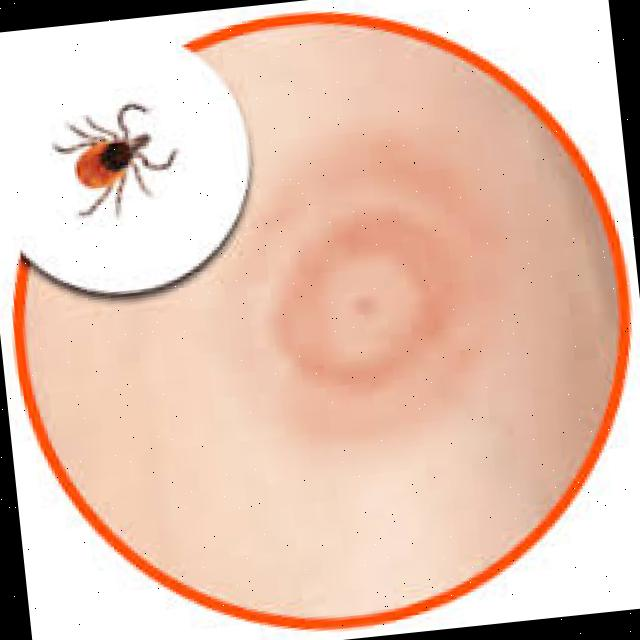kene: (257, 211, 472, 387)
